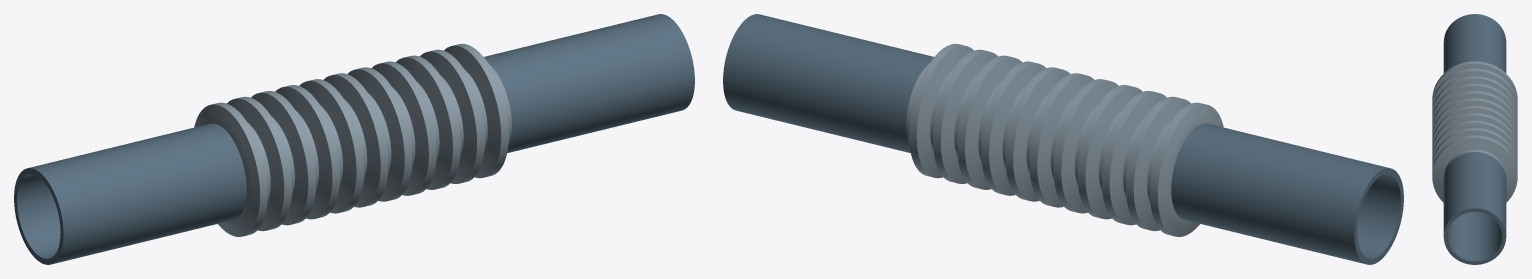
File: silf-dn40-L355-D48_3.glb
3 renders of one model, left to right at view 1: azimuth 30°, elevation 25°; view 2: azimuth 150°, elevation 25°; view 3: azimuth 270°, elevation 25°, orthographic. The views are drawn at different scales.
Parts seen in each view (by area): view 1: prokladka_silfon_1, patrubok_1, patrubok_2; view 2: prokladka_silfon_1, patrubok_1, patrubok_2; view 3: prokladka_silfon_1, patrubok_2, patrubok_1.
Boxes of the visible parts, <box> form: prokladka_silfon_1: <box>194,43,511,236</box>; patrubok_1: <box>14,123,246,264</box>; patrubok_2: <box>484,14,694,153</box>; prokladka_silfon_1: <box>906,43,1223,236</box>; patrubok_1: <box>1171,123,1403,264</box>; patrubok_2: <box>723,14,933,153</box>; prokladka_silfon_1: <box>1432,61,1517,202</box>; patrubok_2: <box>1443,152,1506,264</box>; patrubok_1: <box>1443,14,1506,73</box>.
Bounding box in the file's own units: 355 × 66.1 × 66.1.
